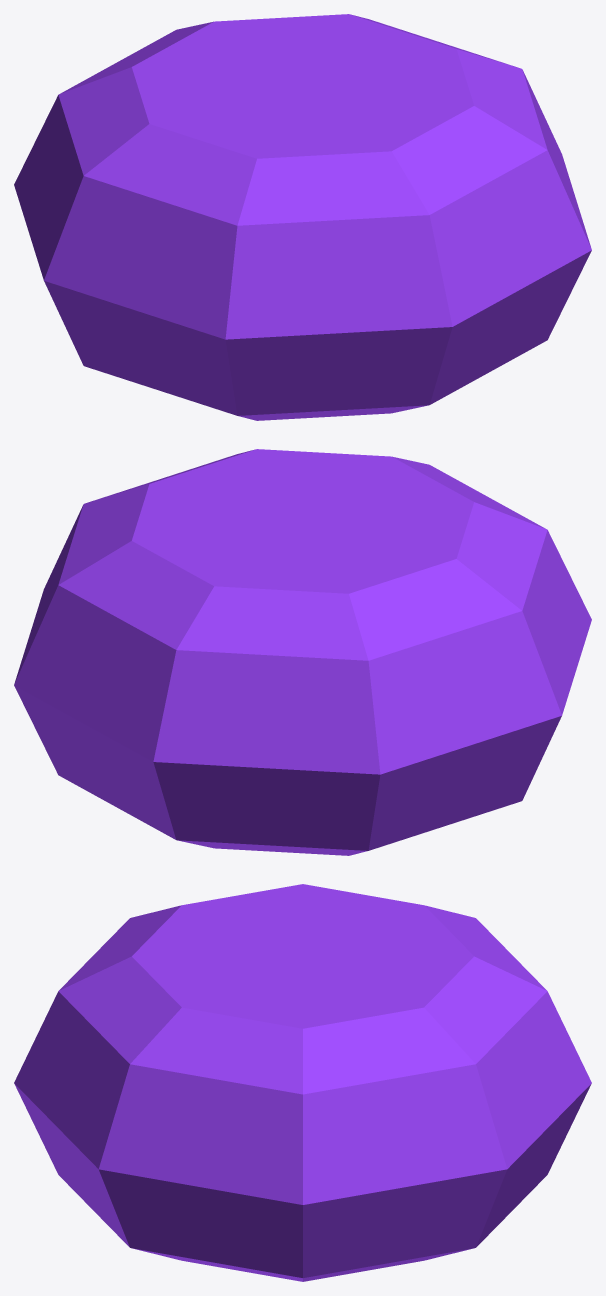
The model's file is Amethyst.fbx.
3 renders of one model, top to bottom at view 1: azimuth 30°, elevation 25°; view 2: azimuth 150°, elevation 25°; view 3: azimuth 270°, elevation 25°, orthographic. The views are drawn at different scales.
Visible parts, largest first — view 1: Amethyst; view 2: Amethyst; view 3: Amethyst.
Boxes of the visible parts, bbox=[...] form: Amethyst: bbox=[14, 14, 591, 420]; Amethyst: bbox=[14, 449, 591, 855]; Amethyst: bbox=[14, 884, 591, 1281].
Size of the model in its own units: 200 by 96.49 by 200.
